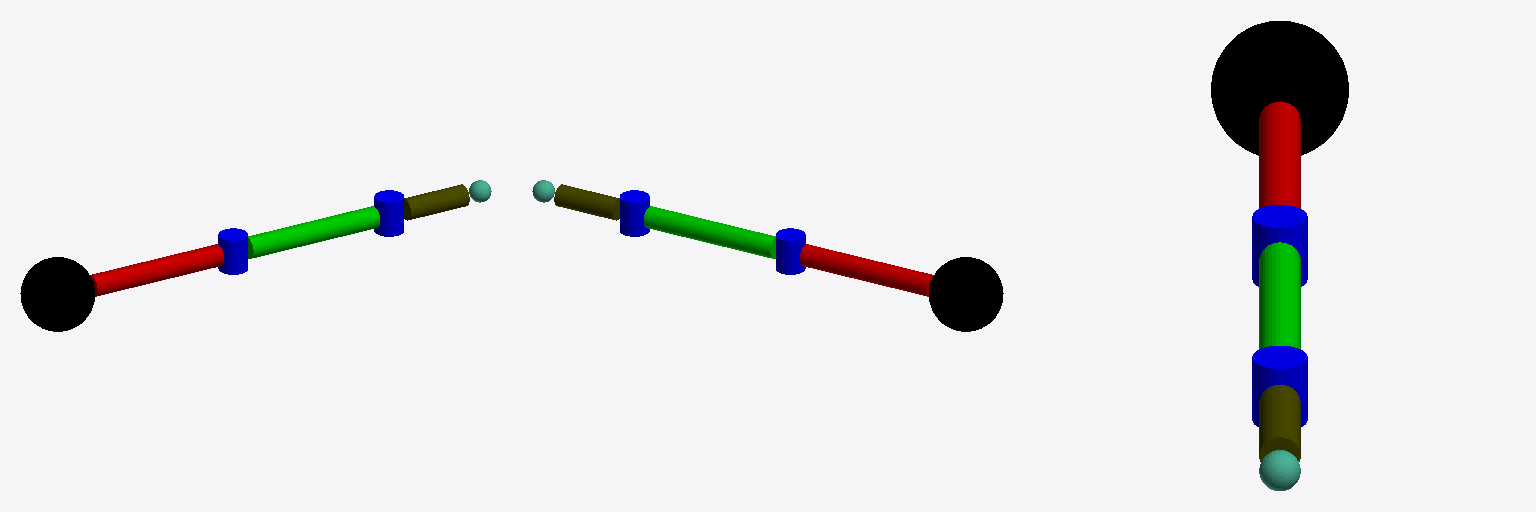
URDF robot description (4_link_planar):
<?xml version="1.0"?>
<robot name="4_link_planar">
  <link name="world"/>

  <joint name="base_joint" type="fixed">
    <origin rpy="0.0 0.0 0.0" xyz="0.0 0.0 0.0"/>
    <parent link="world"/>
    <child link="base_link"/>
  </joint>

  <link name="base_link">
    <inertial>
      <origin rpy="0 0 0" xyz="0.0 0.0 0.0"/>
      <mass value="1"/>
      <inertia ixx="0.05" ixy="0" ixz="0" iyy="0.018" iyz="0" izz="0.044"/>
    </inertial>
    <visual>
      <geometry>
        <sphere radius="0.1"/>
      </geometry>
      <material name="black">
        <color rgba="0 0 0 1"/>
      </material>
    </visual>
    <collision>
      <geometry>
        <sphere radius="0.1"/>
      </geometry>
    </collision>
  </link>

  <joint name="joint_1" type="revolute">
    <axis xyz="0 0 1"/>
    <parent link="base_link"/>
    <child link="link_1"/>
    <origin xyz="0.0 0.0 0.0" rpy="0.0 0.0 0.0"/>
    <limit effort="320.0" lower="-2.9670597283903604" upper="2.9670597283903604" velocity="2.35619449019"/>
  </joint>

  <link name="link_1">
    <inertial>
      <origin rpy="0 0 0" xyz="0.3 0.0 0.0"/>
      <mass value="1"/>
      <inertia ixx="0.0008" ixy="0" ixz="0" iyy="0.0151" iyz="0" izz="0.0151"/>
    </inertial>
    <visual>
      <origin rpy="0 1.57079632679 0" xyz="0.3 0.0 0.0"/>
      <geometry>
        <cylinder radius="0.03" length="0.39"/>
      </geometry>
      <material name="orange">
        <color rgba="0.8 0 0 1"/>
      </material>
    </visual>
    <collision>
      <origin rpy="0 1.57079632679 0" xyz="0.3 0.0 0.0"/>
      <geometry>
        <cylinder radius="0.00" length="0.0"/>
      </geometry>
    </collision>
  </link>

  <joint name="fix_joint_1" type="fixed">
    <axis xyz="0 0 1"/>
    <parent link="link_1"/>
    <child link="ball_1"/>
    <origin xyz="0.54 0.0 0.0" rpy="0.0 0.0 0.0"/>
  </joint>

  <link name="ball_1">
    <inertial>
      <origin rpy="0 0 0" xyz="0.0 0.0 0.0"/>
      <mass value="1"/>
      <inertia ixx="0.0008" ixy="0" ixz="0" iyy="0.0151" iyz="0" izz="0.0151"/>
    </inertial>
    <visual>
      <origin rpy="0 0 0" xyz="0.0 0.0 0.0"/>
      <geometry>
        <cylinder radius="0.04" length="0.1"/>
      </geometry>
      <material name="blue">
        <color rgba="0. 0 1 1"/>
      </material>
    </visual>
    <collision>
      <origin rpy="0 0 0" xyz="0.0 0.0 0.0"/>
      <geometry>
        <cylinder radius="0.04" length="0.1"/>
      </geometry>
    </collision>
  </link>

  <joint name="joint_2" type="revolute">
    <axis xyz="0 0 1"/>
    <parent link="ball_1"/>
    <child link="link_2"/>
    <origin xyz="0.0 0 0"/>
    <limit effort="320.0" lower="-2.0943951023931953" upper="2.0943951023931953" velocity="2.35619449019"/>
  </joint>

  <link name="link_2">
    <inertial>
      <origin rpy="0 0 0" xyz="0.24 0.0 0.0"/>
      <mass value="1"/>
      <inertia ixx="0.0008" ixy="0" ixz="0" iyy="0.0137" iyz="0" izz="0.0137"/>
    </inertial>
    <visual>
      <geometry>
        <cylinder radius="0.03" length="0.39"/>
      </geometry>
      <origin rpy="0.0 1.57079632679 0" xyz="0.24 0.0 0.0"/>
      <material name="orange">
        <color rgba="0 0.8 0.0 1"/>
      </material>
    </visual>
    <collision>
      <geometry>
        <cylinder radius="0.00" length="0.0"/>
      </geometry>
       <origin rpy="0 1.57079632679 0" xyz="0.24 0.0 0.0"/>
    </collision>
  </link>

  <joint name="fix_joint_2" type="fixed">
    <axis xyz="0 0 1"/>
    <parent link="link_2"/>
    <child link="ball_2"/>
    <origin xyz="0.48 0.0 0.0" rpy="0.0 0.0 0.0"/>
  </joint>

  <link name="ball_2">
    <inertial>
      <origin rpy="0 0 0" xyz="0.0 0.0 0.0"/>
      <mass value="1"/>
      <inertia ixx="0.0008" ixy="0" ixz="0" iyy="0.0151" iyz="0" izz="0.0151"/>
    </inertial>
    <visual>
      <origin rpy="0 0 0" xyz="0.0 0.0 0.0"/>
      <geometry>
        <cylinder radius="0.04" length="0.1"/>
      </geometry>
      <material name="blue">
        <color rgba="0. 0 1 1"/>
      </material>
    </visual>
    <collision>
      <origin rpy="0 0 0" xyz="0.0 0.0 0.0"/>
      <geometry>
        <cylinder radius="0.04" length="0.1"/>
      </geometry>
    </collision>
  </link>

  <joint name="joint_3" type="revolute">
    <axis xyz="0 0 1"/>
    <parent link="ball_2"/>
    <child link="link_5"/>
    <origin xyz="0.0 0 0"/>
    <limit effort="320.0" lower="-2.0943951023931953" upper="2.0943951023931953" velocity="2.35619449019"/>
  </joint>

  <link name="link_5">
    <inertial>
      <origin rpy="0 0 0" xyz="0.14 0.0 0.0"/>
      <mass value="1"/>
      <inertia ixx="0.0008" ixy="0" ixz="0" iyy="0.0023" iyz="0" izz="0.0023"/>
    </inertial>
    <visual>
      <geometry>
        <cylinder radius="0.03" length="0.18"/>
      </geometry>
      <origin rpy="0 1.57079632679 0" xyz="0.14 0 0"/>
      <material name="orange">
        <color rgba="0.3 0.3 .0 1"/>
      </material>
    </visual>
    <collision>
      <geometry>
        <cylinder radius="0.00" length="0.0"/>
      </geometry>
      <origin rpy="0 1.57079632679 0" xyz="0.14 0.0 0.0"/>
    </collision>
  </link>

  <joint name="joint_ee" type="fixed">
      <axis xyz="0 0 1"/>
      <parent link="link_5"/>
      <child link="link_ee"/>
      <origin xyz="0.28 0 0"/>
  </joint>


  <link name="link_ee">
     <visual>
      <geometry>
        <sphere radius="0.03"/>
      </geometry>
      <origin rpy="0 1.57079632679 0" xyz="0.0 0 0"/>
      <material name="target">
        <color rgba="0.3 0.7 .6 1"/>
      </material>
    </visual>
  </link>


</robot>

--- Facts derived from the render (not from the file) ---
Views: 3 orthographic renders of the robot side by side, from view 1: azimuth 30°, elevation 25°; view 2: azimuth 150°, elevation 25°; view 3: azimuth 270°, elevation 25°.
Model 4_link_planar with 8 links and 7 joints (3 revolute, 4 fixed), rooted at world, posed all joints at 0.
Visible links, largest first — view 1: base_link, link_2, link_1, link_5, ball_2, ball_1; view 2: base_link, link_2, link_1, link_5, ball_2, ball_1; view 3: base_link, link_2, link_1, ball_2, link_5, ball_1, link_ee.
Boxes of the visible links, left/top/right/bottom form: base_link: left=20, top=257, right=94, bottom=331; link_2: left=248, top=206, right=379, bottom=258; link_1: left=90, top=244, right=223, bottom=296; link_5: left=404, top=184, right=469, bottom=220; ball_2: left=374, top=190, right=403, bottom=236; ball_1: left=218, top=228, right=247, bottom=274; base_link: left=929, top=257, right=1003, bottom=331; link_2: left=644, top=206, right=775, bottom=258; link_1: left=800, top=244, right=933, bottom=296; link_5: left=554, top=184, right=619, bottom=220; ball_2: left=620, top=190, right=649, bottom=236; ball_1: left=776, top=228, right=805, bottom=274; base_link: left=1211, top=21, right=1348, bottom=155; link_2: left=1259, top=242, right=1300, bottom=348; link_1: left=1259, top=102, right=1300, bottom=208; ball_2: left=1252, top=346, right=1307, bottom=426; link_5: left=1259, top=385, right=1300, bottom=461; ball_1: left=1252, top=205, right=1307, bottom=286; link_ee: left=1259, top=450, right=1300, bottom=490.
Size in the robot's own frame: 1.43 by 0.2 by 0.2 metres.
Geometry: primitives only (box / cylinder / sphere), no mesh files.